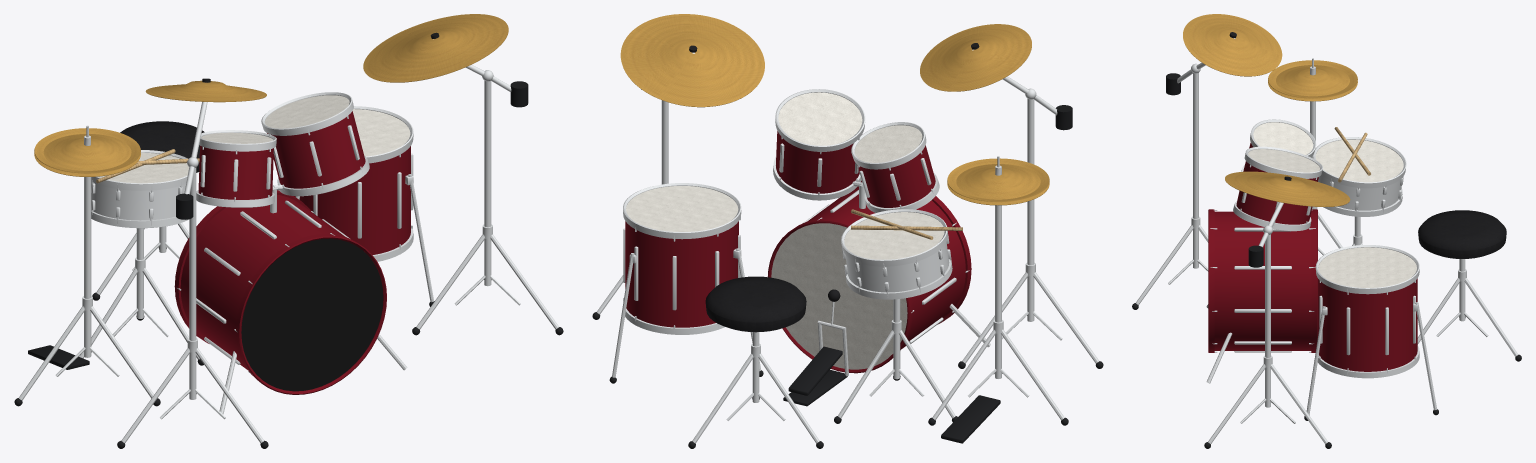
Rendered from drum-kit.glb.
3 renders of one model, left to right at view 1: azimuth 30°, elevation 25°; view 2: azimuth 150°, elevation 25°; view 3: azimuth 270°, elevation 25°, orthographic. The views are drawn at different scales.
Visible parts, largest first — view 1: Drum_Kit; view 2: Drum_Kit; view 3: Drum_Kit.
Boxes of the visible parts, x1,y1,x2,y2 form: Drum_Kit: [14, 14, 563, 448]; Drum_Kit: [592, 14, 1103, 448]; Drum_Kit: [1132, 14, 1521, 448].
Bounding box in the file's own units: 1.9 × 1.23 × 1.56.
10 materials, 4 textured.
